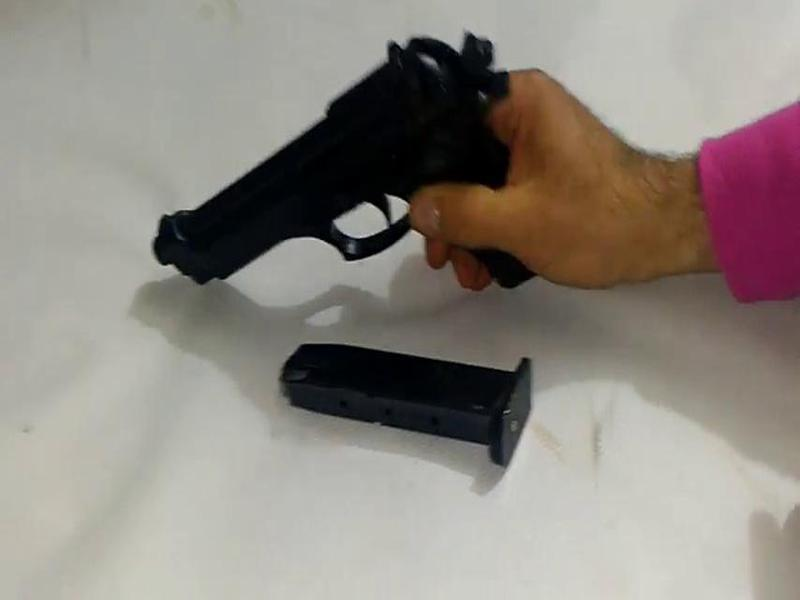Pistola: (127, 28, 599, 298)
